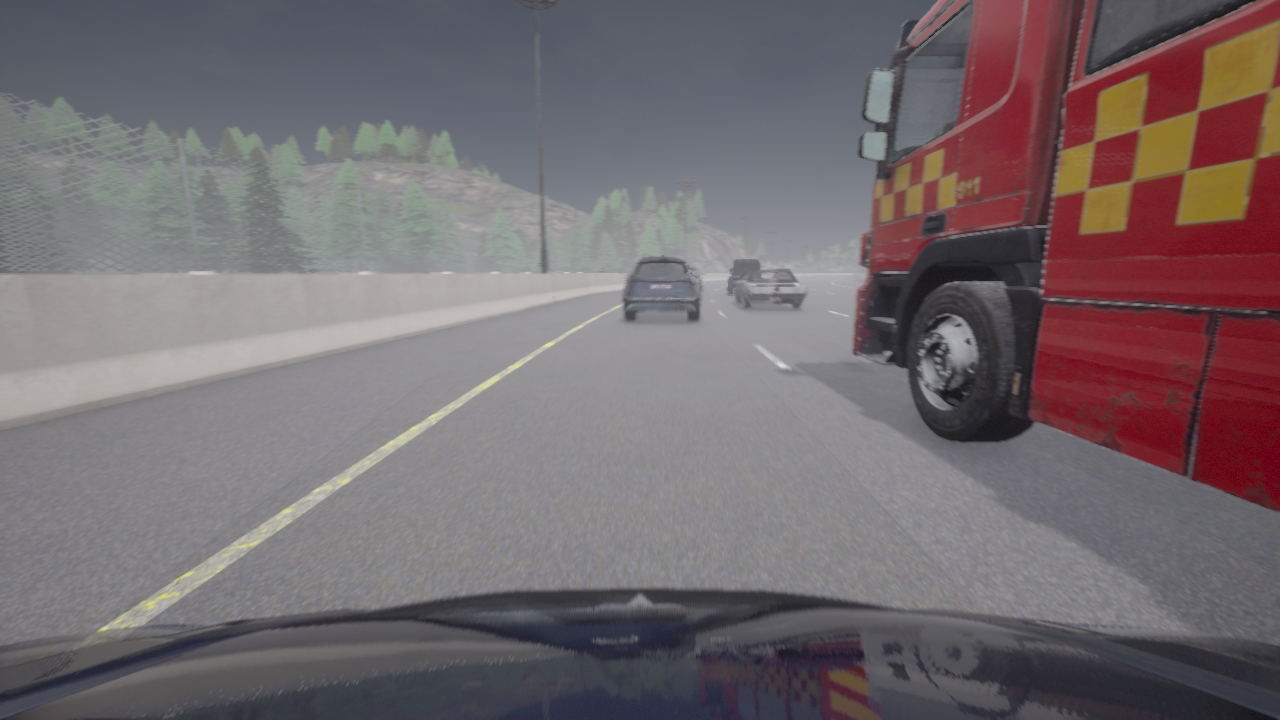cyclist: (851, 0, 1279, 513), (0, 588, 1279, 719), (623, 255, 700, 321), (736, 270, 806, 308), (727, 260, 759, 294), (691, 266, 703, 290), (777, 269, 794, 274), (734, 288, 735, 289)
